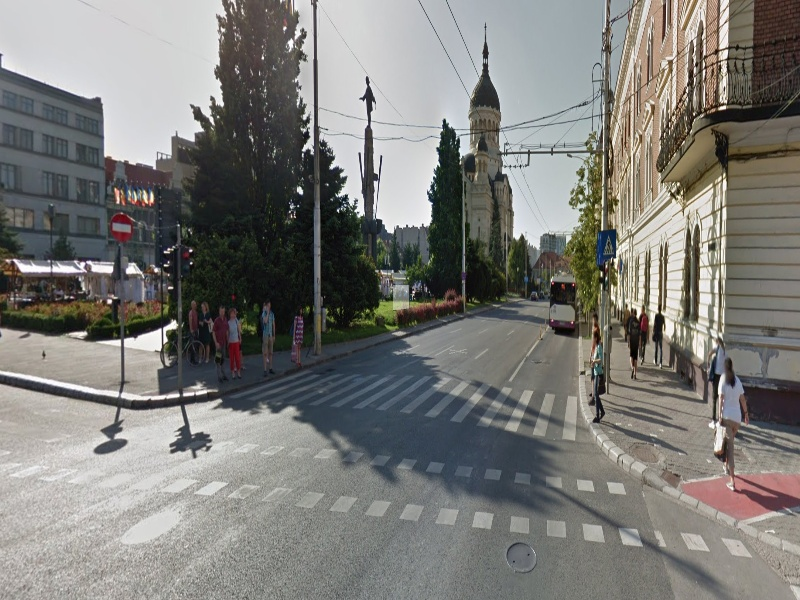crosswalk: (225, 369, 581, 444)
crosswalk_sign: (597, 230, 618, 259)
pedestrian: (711, 358, 746, 495), (212, 305, 244, 382), (586, 329, 609, 425), (259, 299, 276, 379), (290, 305, 305, 368)
